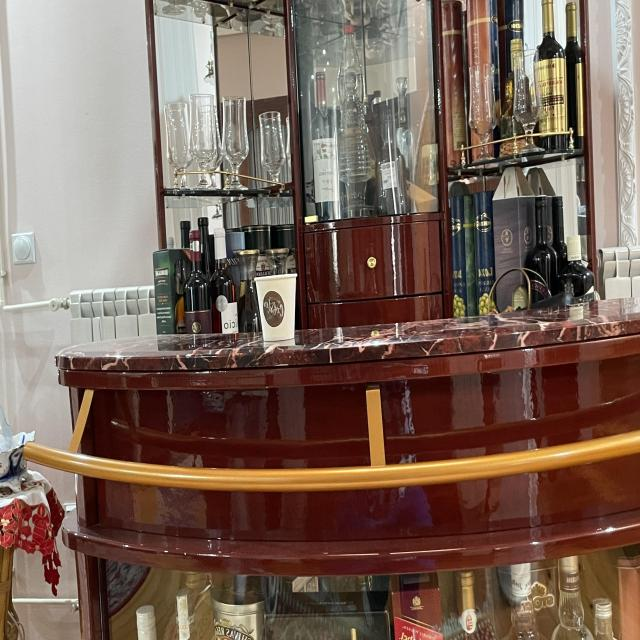medium: (253, 267, 297, 347)
